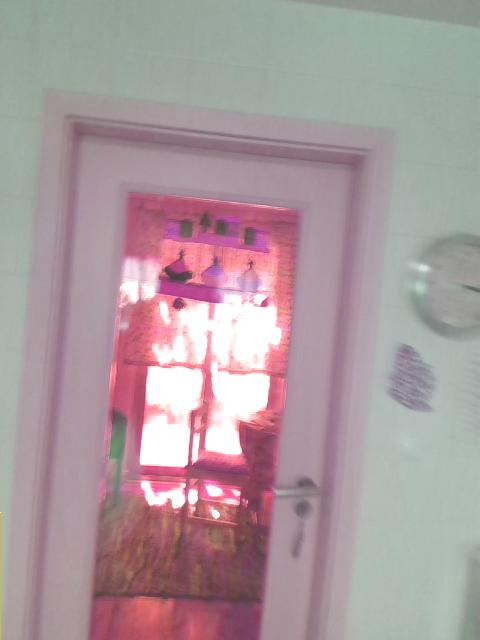closed_door: (7, 88, 397, 639)
